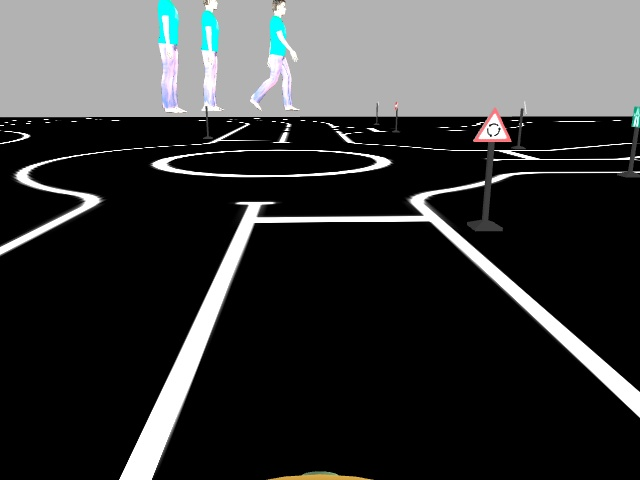Roundabout: (471, 107, 514, 149)
